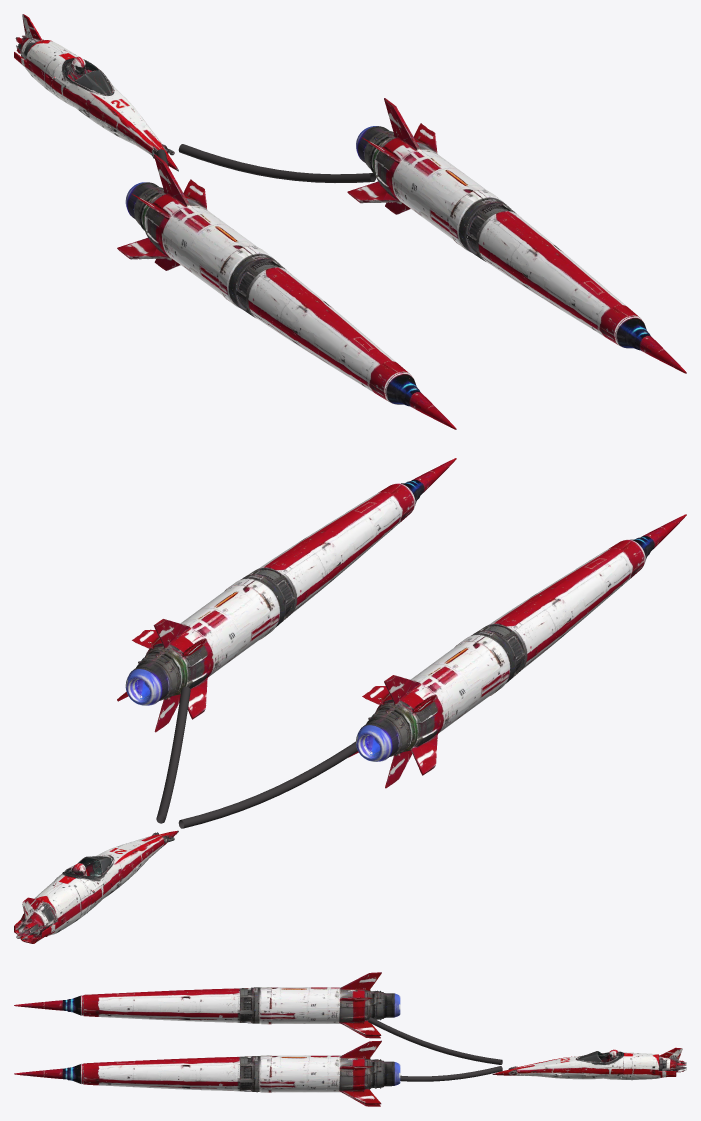
Rendered from longshot-hero.glb.
3 renders of one model, top to bottom at view 1: azimuth 30°, elevation 25°; view 2: azimuth 150°, elevation 25°; view 3: azimuth 270°, elevation 25°, orthographic. The views are drawn at different scales.
Visible parts, largest first — view 1: longshot-engine-right-body, longshot-engine-left-body, longshot-cockpit-body, longshot-tow-cables; view 2: longshot-engine-left-body, longshot-engine-right-body, longshot-cockpit-body, longshot-tow-cables; view 3: longshot-engine-right-body, longshot-engine-left-body, longshot-cockpit-body, longshot-tow-cables.
Part boxes in pixels (x1=…): longshot-engine-right-body: x1=347, y1=98, x2=686, y2=373; longshot-engine-left-body: x1=117, y1=154, x2=456, y2=429; longshot-cockpit-body: x1=14, y1=14, x2=178, y2=171; longshot-tow-cables: x1=156, y1=144, x2=375, y2=182; longshot-engine-left-body: x1=348, y1=514, x2=686, y2=788; longshot-engine-right-body: x1=117, y1=458, x2=456, y2=732; longshot-cockpit-body: x1=14, y1=830, x2=178, y2=943; longshot-tow-cables: x1=156, y1=686, x2=357, y2=828; longshot-engine-right-body: x1=14, y1=1040, x2=400, y2=1106; longshot-engine-left-body: x1=14, y1=972, x2=400, y2=1038; longshot-cockpit-body: x1=492, y1=1047, x2=686, y2=1080; longshot-tow-cables: x1=368, y1=1017, x2=502, y2=1081.
Bounding box in the file's own units: 8.22 × 3 × 25.6.
Materials: 3 (2 with a texture image).
